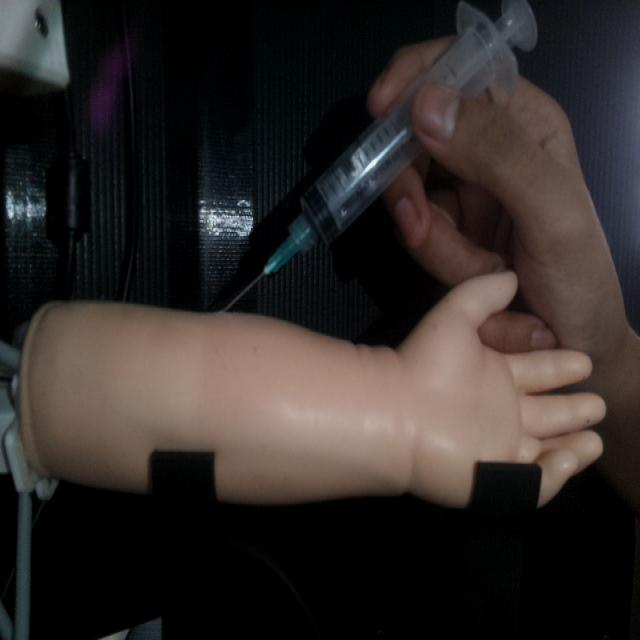Above 30 degrees: (216, 0, 542, 317)
